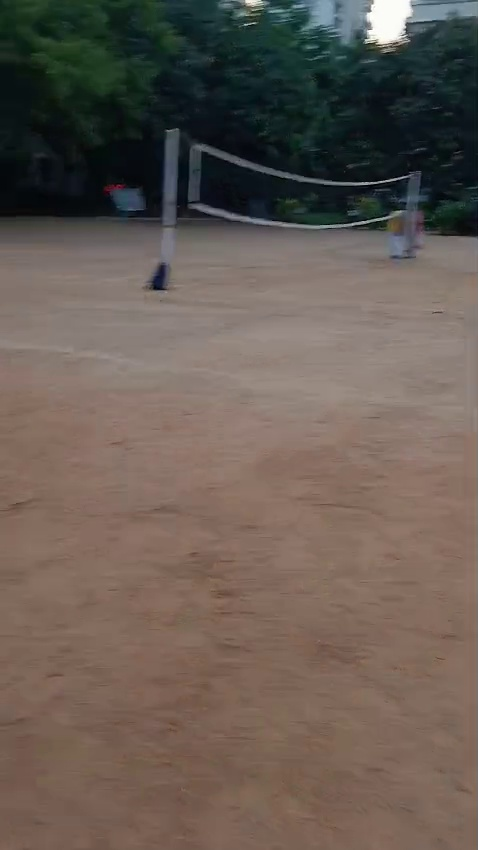bag: (135, 259, 177, 288)
